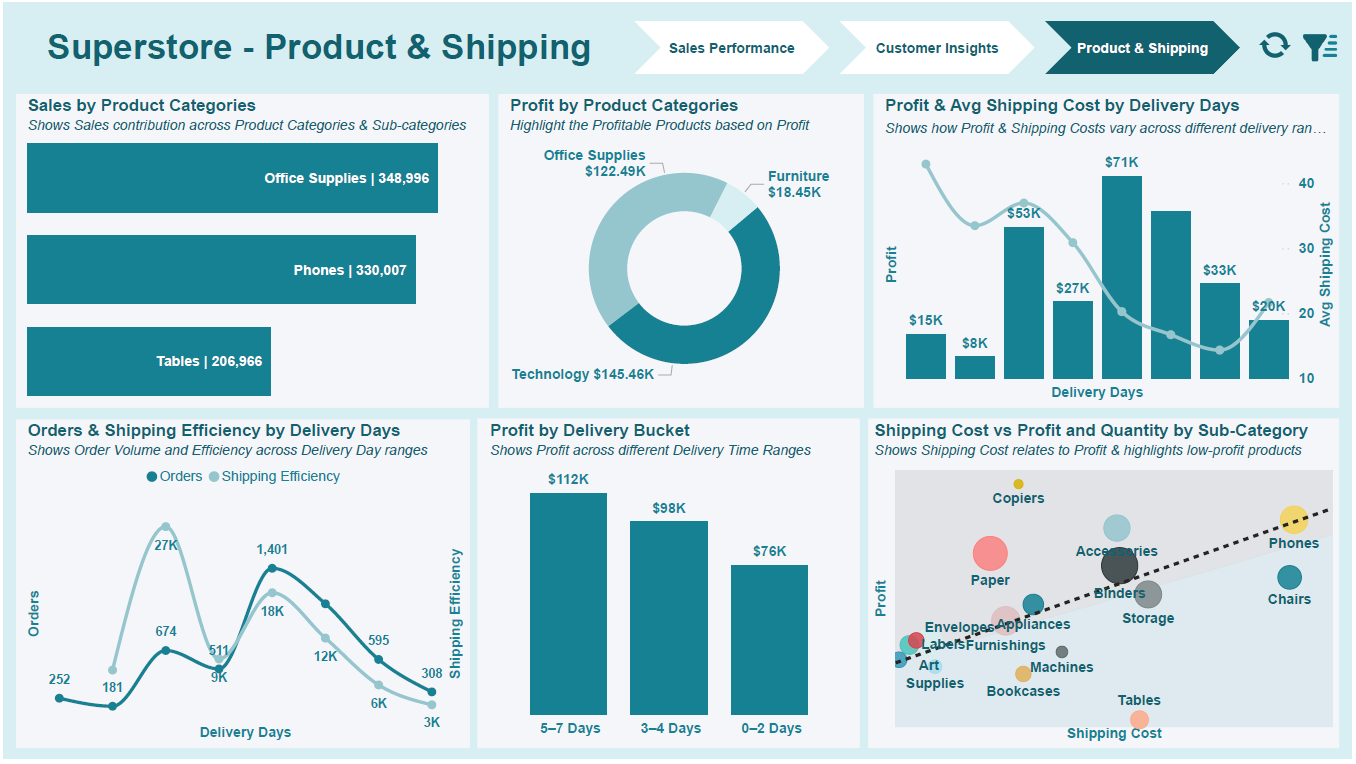

The dashboard page shown, as its layout file describes it:
{"tool":"powerbi","page":{"name":"Product & Shipping","canvas":[1280,720],"ordinal":2},"visuals":[{"type":"pageNavigator","box":[598.8,17.9,575,50],"z":0},{"type":"shape","box":[13.1,8.3,569.1,69],"z":1000},{"type":"clusteredBarChart","title":"Sales by Product Categories","fields":{"Y":["DAX.Sales"],"Category":["Global_Superstore.Category","Global_Superstore.Sub-Category"]},"box":[13.1,86.9,446.4,296.4],"z":2000},{"type":"donutChart","title":"Profit by Product Categories","fields":{"Category":["Global_Superstore.Category"],"Y":["DAX.Profit"]},"box":[471,87.5,346.4,296],"z":3000},{"type":"scatterChart","title":"Shipping Cost vs Profit and Quantity by Sub-Category","fields":{"X":["DAX.Shipping Cost"],"Y":["DAX.Profit"],"Size":["DAX.Quantity"],"Series":["Global_Superstore.Sub-Category"]},"box":[817.4,395.5,449.4,310.4],"z":4000},{"type":"lineChart","title":"Orders & Shipping Efficiency by Delivery Days","fields":{"Y":["DAX.Orders"],"Y2":["DAX.Shipping Efficiency"],"Category":["Global_Superstore.Delivery Days"]},"box":[13.2,395.5,429.1,310.4],"z":5000},{"type":"columnChart","fields":{"Y":["DAX.Profit"],"Category":["Global_Superstore.Delivery Bucket"]},"box":[451.8,395.5,359,310.4],"z":6000},{"type":"lineStackedColumnComboChart","title":"Profit & Avg Shipping Cost by Delivery Days","fields":{"Category":["Global_Superstore.Delivery Days"],"Y":["DAX.Profit"],"Y2":["DAX.Avg Shipping Cost"]},"box":[827.4,86.9,440.5,296.4],"z":7000},{"type":"image","box":[1186.9,17.9,40.5,45.2],"z":8000},{"type":"image","box":[1227.4,17.9,45.2,50],"z":9000}]}

Visuals, with their boxes in screenshot pixels (x1, y1, x2, y2), scaled from the page's 1280x720 canvas onto the 1356x764 screenshot:
pageNavigator: (left=634, top=19, right=1243, bottom=72)
shape: (left=14, top=9, right=617, bottom=82)
"Sales by Product Categories" clusteredBarChart: (left=14, top=92, right=487, bottom=407)
"Profit by Product Categories" donutChart: (left=499, top=93, right=866, bottom=407)
"Shipping Cost vs Profit and Quantity by Sub-Category" scatterChart: (left=866, top=420, right=1342, bottom=749)
"Orders & Shipping Efficiency by Delivery Days" lineChart: (left=14, top=420, right=469, bottom=749)
columnChart - DAX.Profit x Global_Superstore.Delivery Bucket: (left=479, top=420, right=859, bottom=749)
"Profit & Avg Shipping Cost by Delivery Days" lineStackedColumnComboChart: (left=877, top=92, right=1343, bottom=407)
image: (left=1257, top=19, right=1300, bottom=67)
image: (left=1300, top=19, right=1348, bottom=72)
